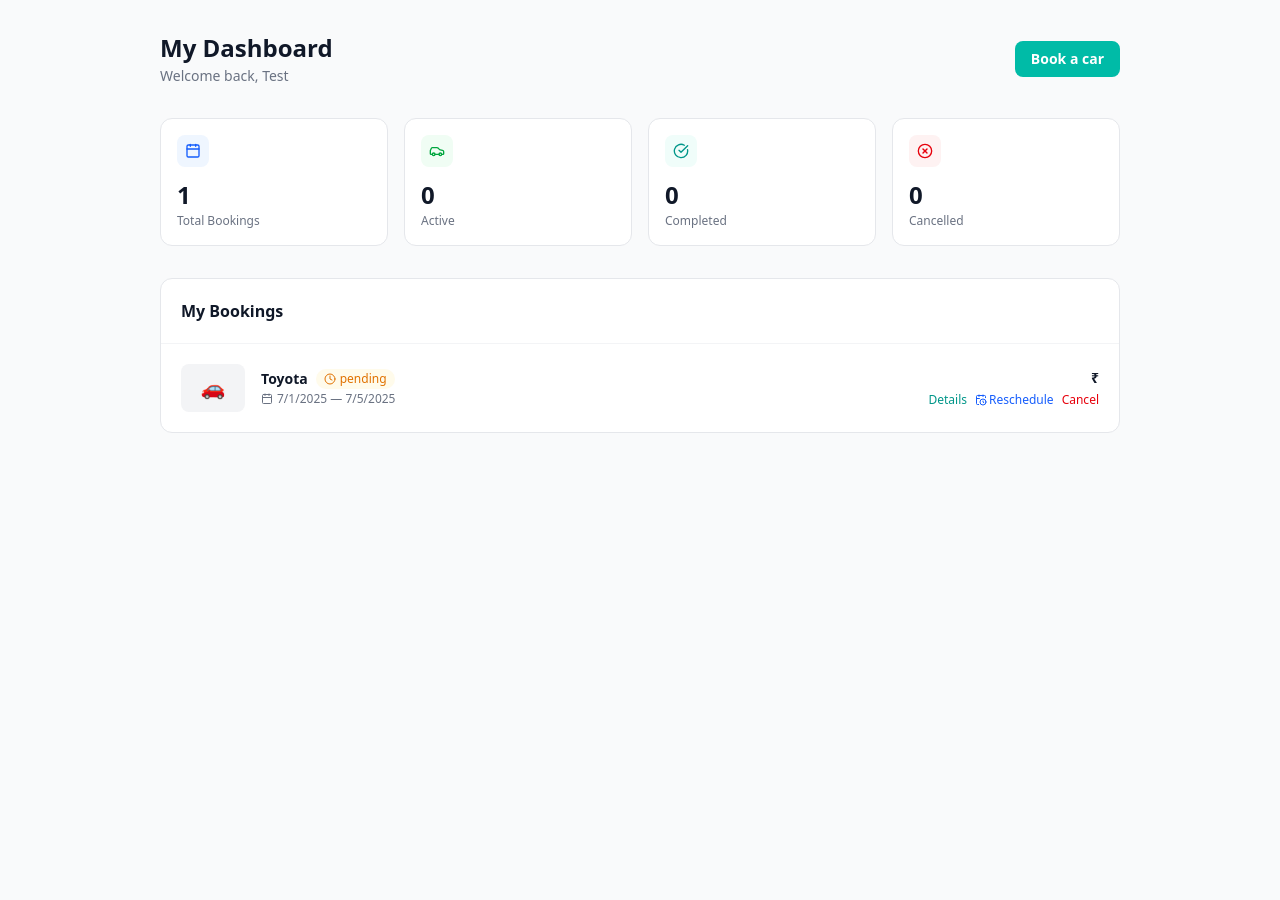
it: Dashboard cancel booking › dismissing the modal does not cancel the booking
Expected: the text "Toyota" is shown, [261, 369, 308, 389]
Click the button "Cancel": [1080, 400] box [1062, 392, 1099, 408]
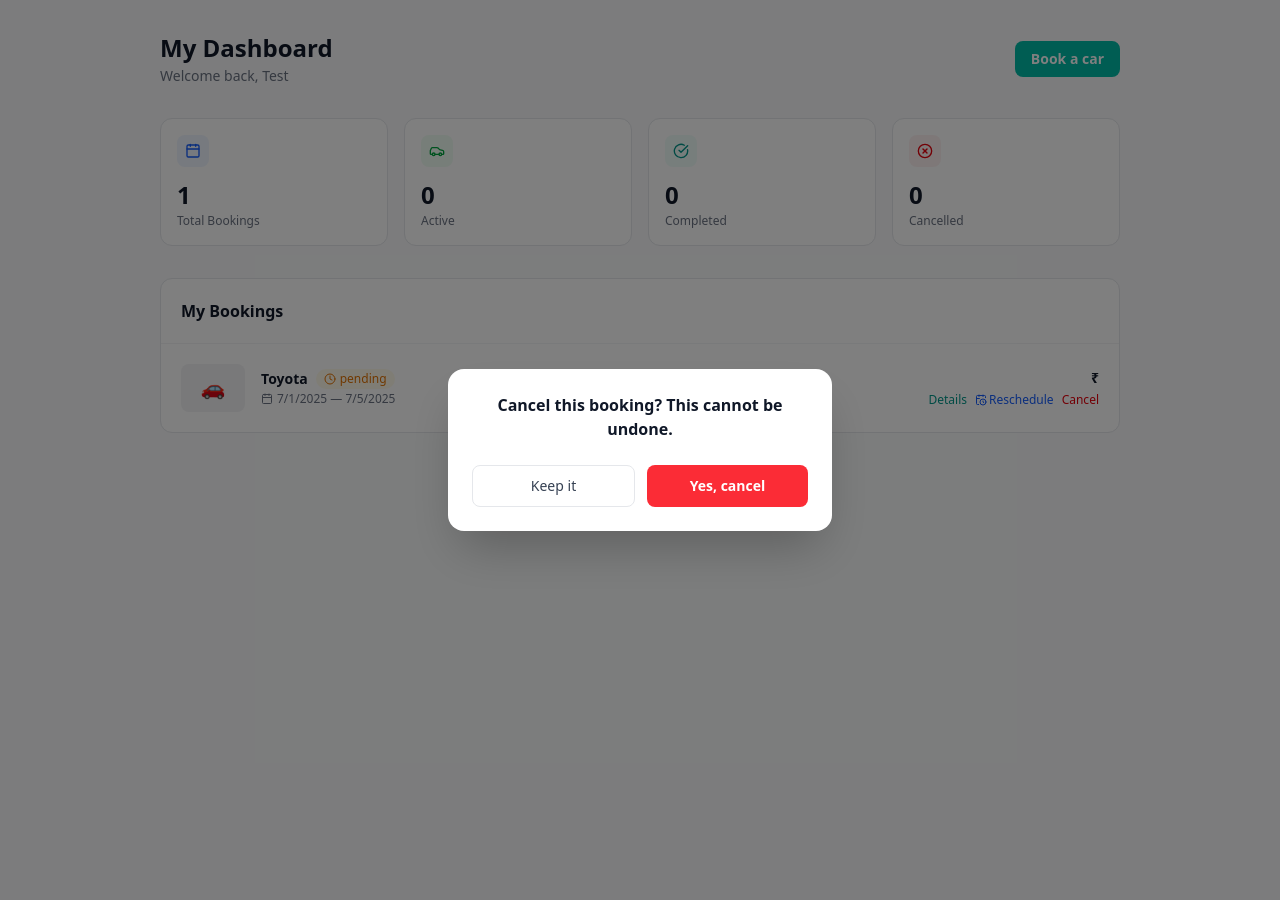
Result: the text "Cancel this booking? This cannot be undone." is shown at [498, 394, 782, 440]
Click the button "Keep it": [554, 486] box [472, 465, 635, 507]
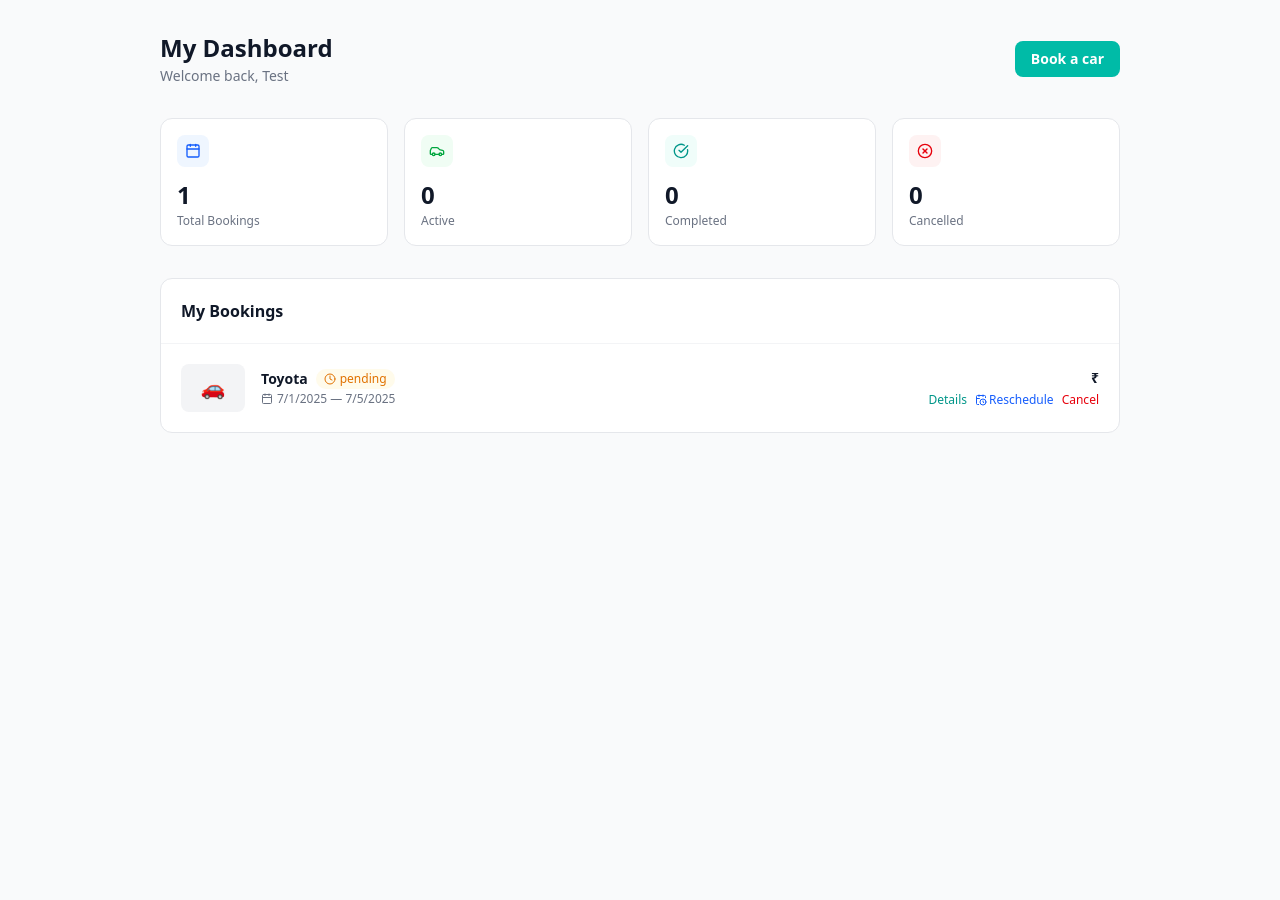
Result: the text "Cancel this booking" is gone
